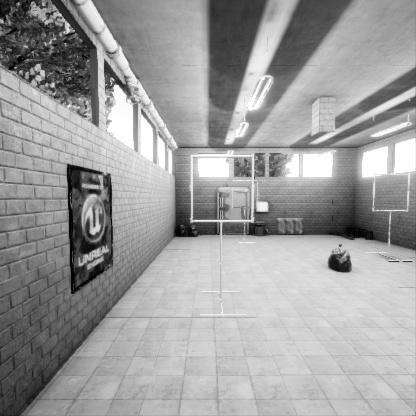gate: (191, 196, 257, 262), (376, 206, 416, 244), (232, 209, 259, 236)
